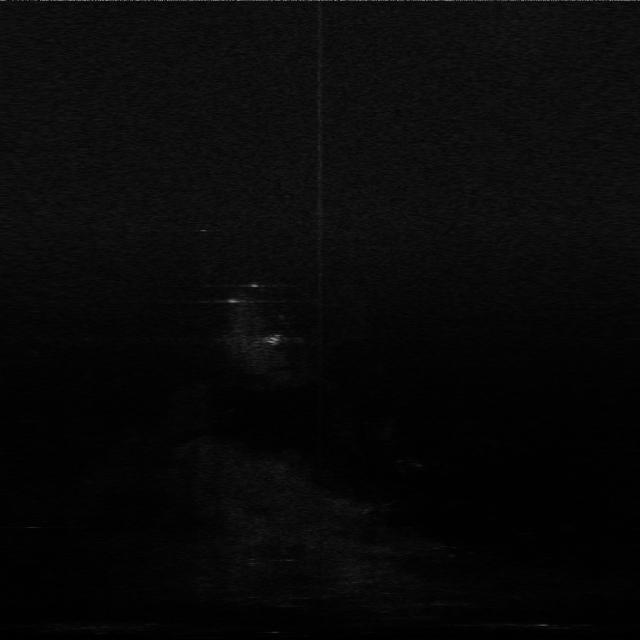rov: (260, 332, 286, 346)
